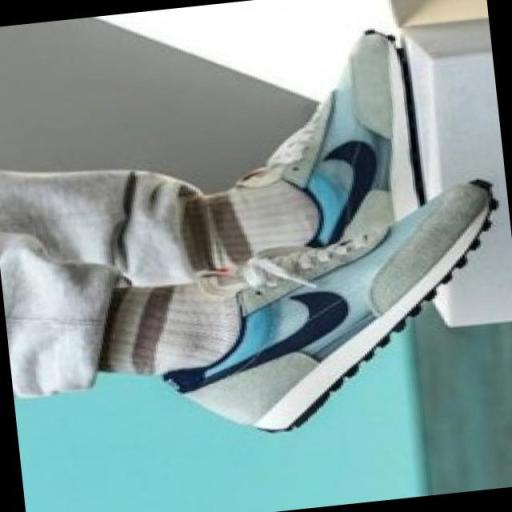Nike: (190, 283, 363, 388)
